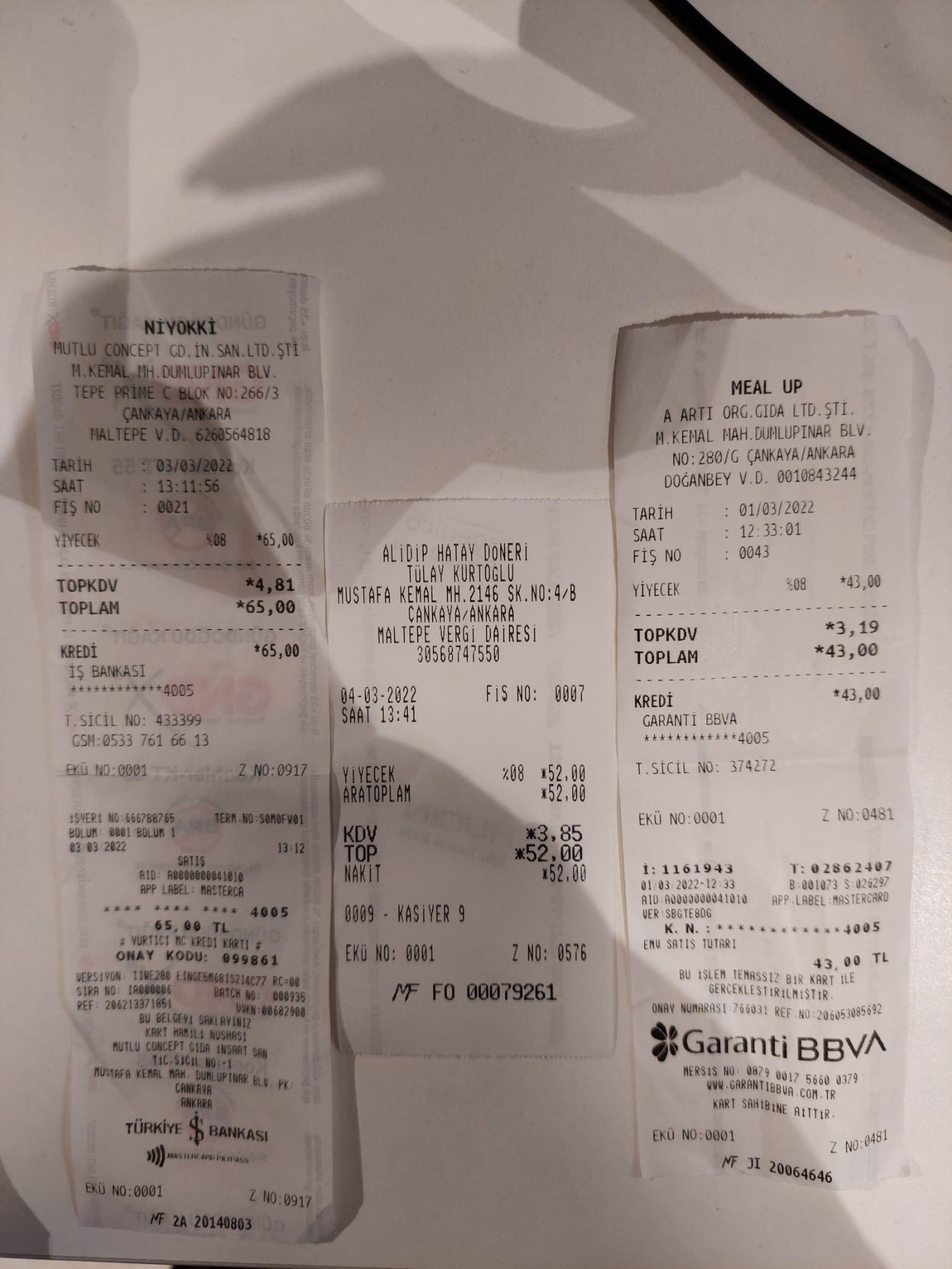date: (518, 840, 594, 865), (242, 594, 303, 620), (821, 641, 889, 663)
price: (151, 453, 238, 478), (336, 680, 422, 705), (737, 496, 818, 518)
workplace: (43, 309, 311, 426), (335, 527, 593, 623), (646, 370, 883, 467)
